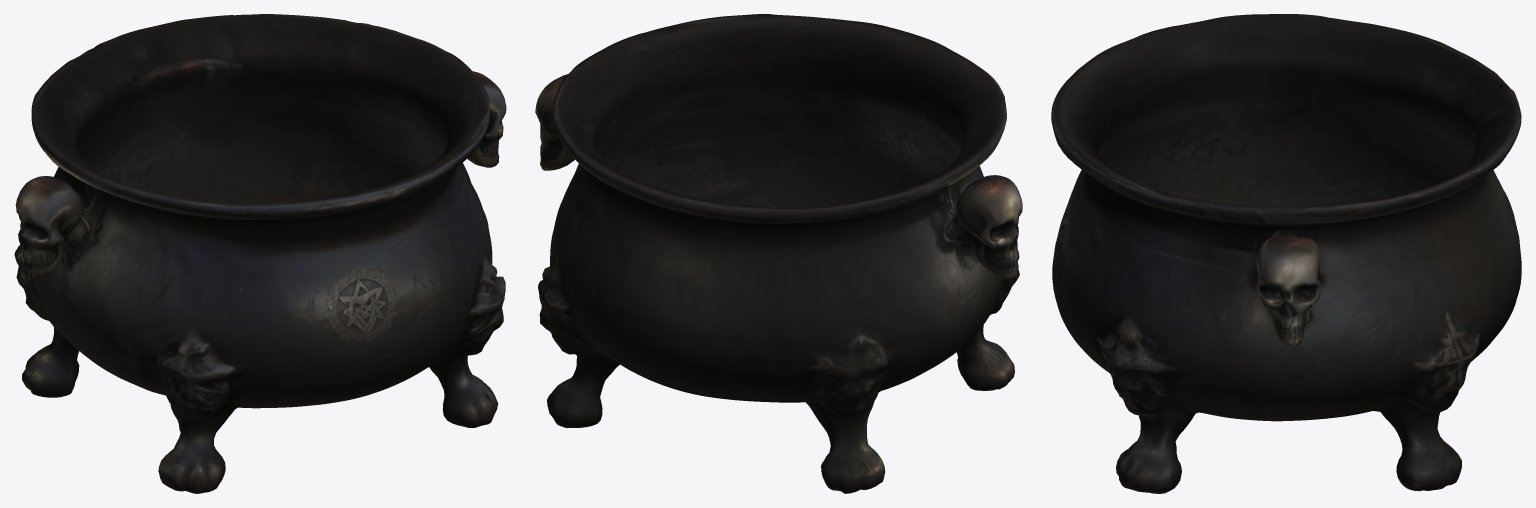
File: Witches_Large_Empty_C_0502101533_refine.fbx
3 renders of one model, left to right at view 1: azimuth 30°, elevation 25°; view 2: azimuth 150°, elevation 25°; view 3: azimuth 270°, elevation 25°, orthographic. The views are drawn at different scales.
Visible parts, largest first — view 1: Mesh_0; view 2: Mesh_0; view 3: Mesh_0.
Boxes of the visible parts, x1=… form: Mesh_0: x1=14, y1=14, x2=506, y2=493; Mesh_0: x1=535, y1=14, x2=1022, y2=493; Mesh_0: x1=1051, y1=14, x2=1521, y2=493.
Size of the model in its own units: 200 by 118 by 165.
1 material, 1 textured.
